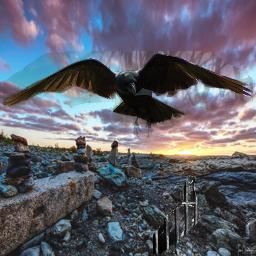Crow: (3, 51, 253, 138), (153, 176, 199, 254)
